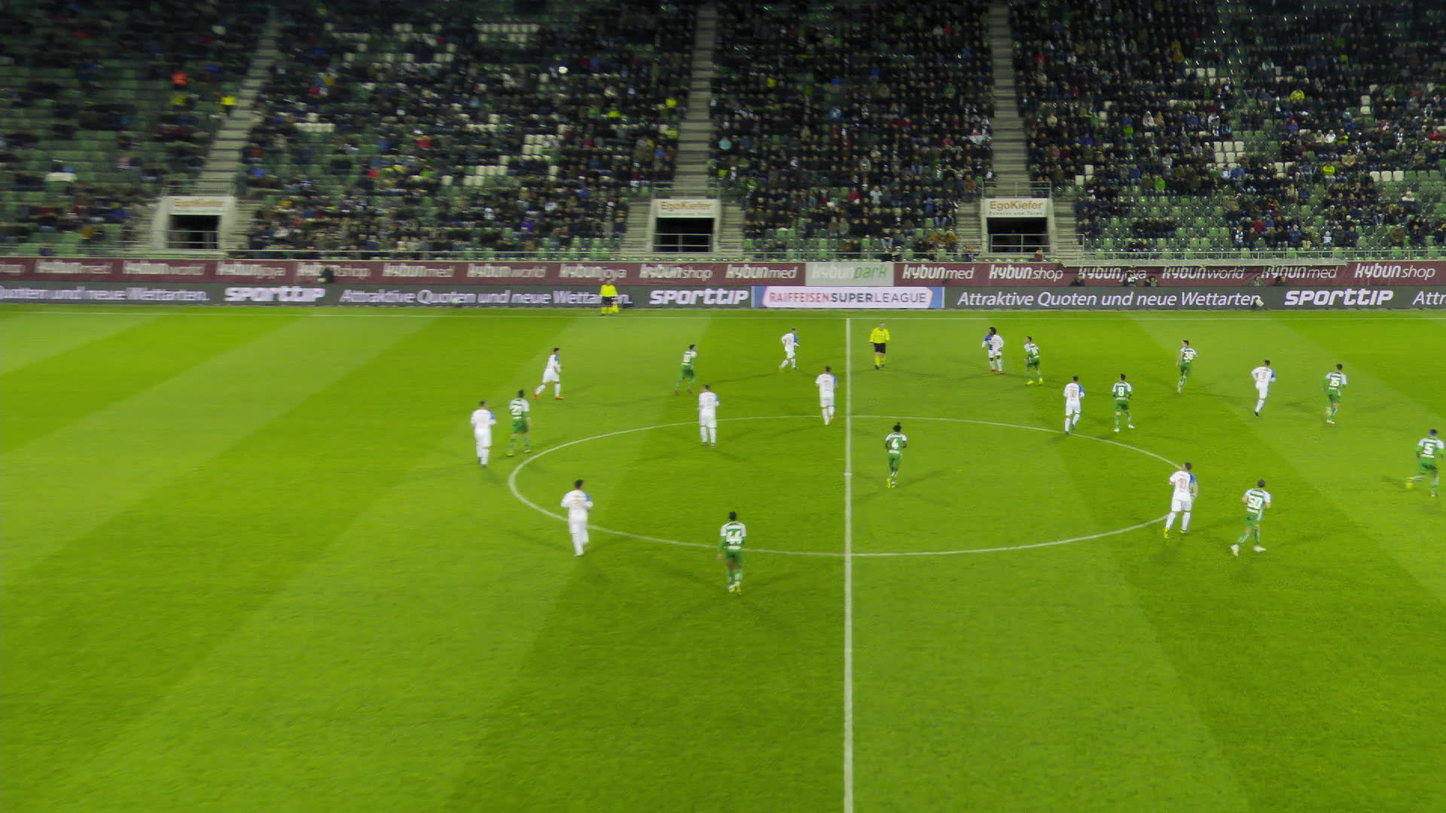ball: (557, 67, 564, 74)
player: (1227, 479, 1269, 556), (564, 476, 596, 554), (719, 510, 748, 595), (1164, 461, 1195, 536), (1313, 357, 1344, 420), (470, 397, 497, 468), (1408, 428, 1433, 497), (883, 418, 909, 484), (509, 385, 534, 453), (1246, 353, 1271, 415), (1060, 373, 1085, 432), (1110, 372, 1133, 432), (699, 384, 720, 449), (815, 365, 838, 424), (540, 349, 564, 401), (1173, 337, 1196, 391), (980, 325, 1005, 373), (678, 344, 700, 396), (1025, 335, 1045, 383), (778, 327, 799, 371)
referee: (867, 317, 893, 367), (600, 280, 623, 315)
